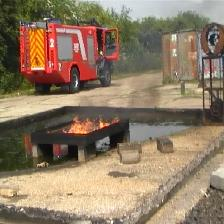fire: (66, 116, 120, 134)
